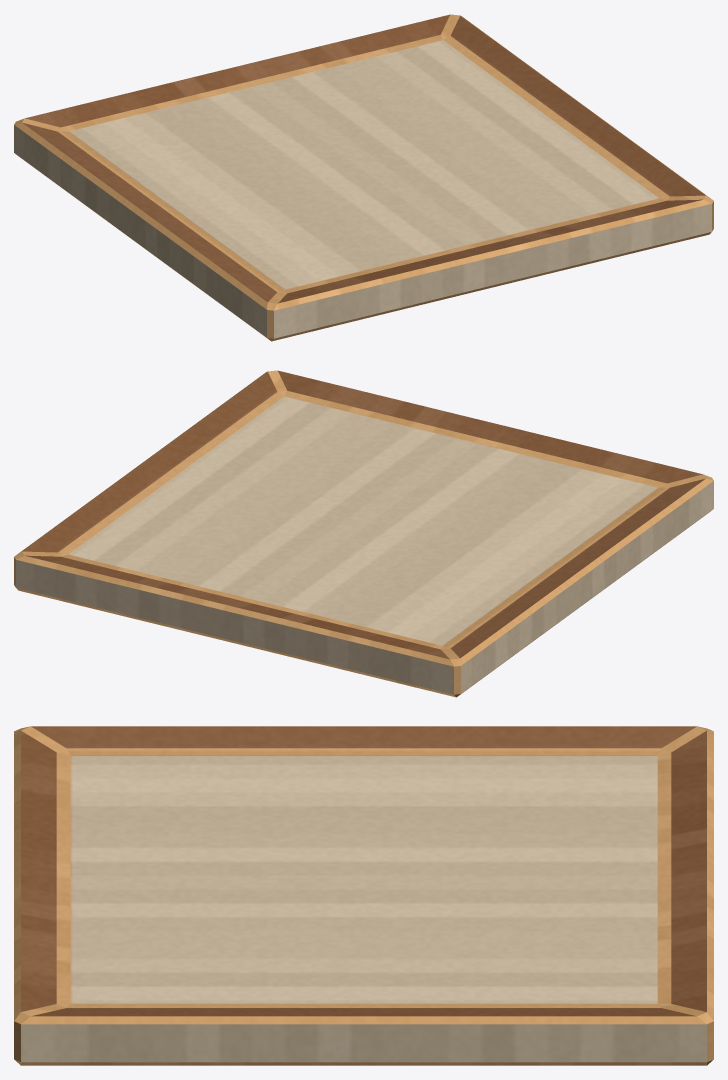
Rendered from sm_terrain_tile_path.glb.
3 renders of one model, top to bottom at view 1: azimuth 30°, elevation 25°; view 2: azimuth 150°, elevation 25°; view 3: azimuth 270°, elevation 25°, orthographic. The views are drawn at different scales.
Visible parts, largest first — view 1: sm_terrain_tile_path; view 2: sm_terrain_tile_path; view 3: sm_terrain_tile_path.
Boxes of the visible parts, <box> form: sm_terrain_tile_path: <box>14,14,713,341</box>; sm_terrain_tile_path: <box>14,370,713,697</box>; sm_terrain_tile_path: <box>14,726,713,1065</box>.
Size of the model in its own units: 1 by 0.0779 by 1.
1 material, 1 textured.
